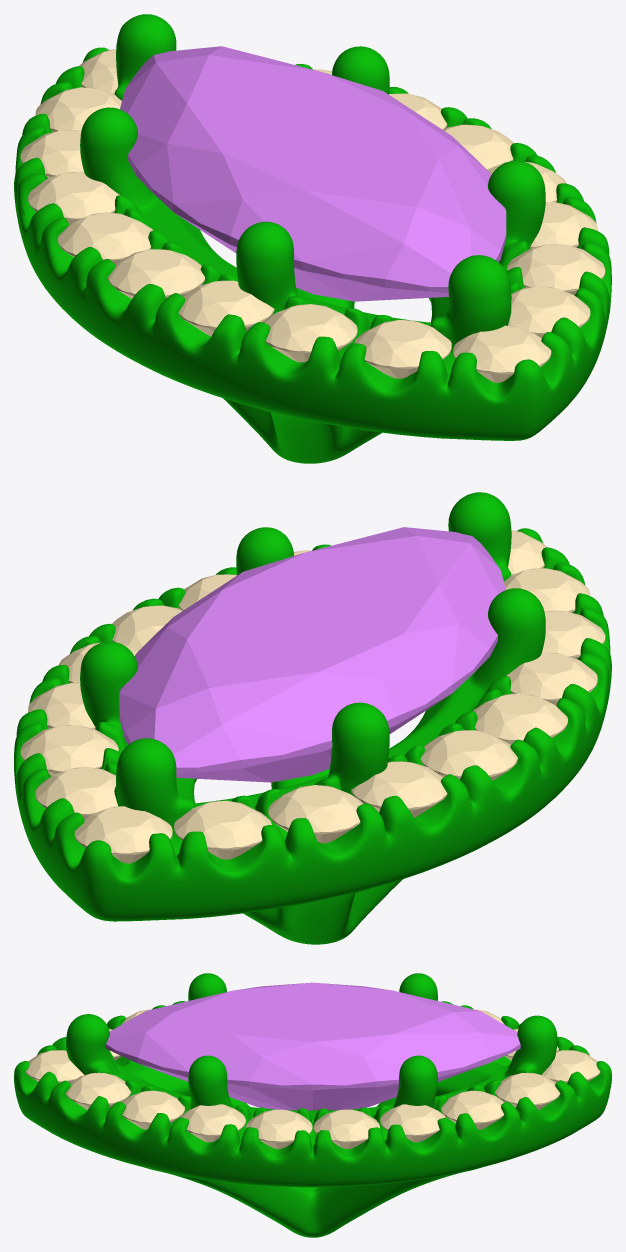
3 views of the same model, one above another, from view 1: azimuth 30°, elevation 25°; view 2: azimuth 150°, elevation 25°; view 3: azimuth 270°, elevation 25° (orthographic). The views are drawn at different scales.
Visible parts, largest first — view 1: Metal01, Diamond_Marquise, Diamond_Round.002, Diamond_Round.001, Diamond_Round.017, Diamond_Round.003, Diamond_Round.016, Diamond_Round, Diamond_Round.005, Diamond_Round.015, Diamond_Round.004, Diamond_Round.013 (+6 smaller); view 2: Metal01, Diamond_Marquise, Diamond_Round.013, Diamond_Round.014, Diamond_Round.016, Diamond_Round.012, Diamond_Round.017, Diamond_Round.015, Diamond_Round.010, Diamond_Round, Diamond_Round.011, Diamond_Round.002 (+6 smaller); view 3: Metal01, Diamond_Marquise, Diamond_Round.008, Diamond_Round.007, Diamond_Round.010, Diamond_Round.011, Diamond_Round.005, Diamond_Round.009, Diamond_Round.004, Diamond_Round.006, Diamond_Round.012, Diamond_Round.003.
Boxes of the visible parts, left/top/right/bottom form: Metal01: left=14, top=14, right=611, bottom=463; Diamond_Marquise: left=120, top=46, right=506, bottom=301; Diamond_Round.002: left=354, top=320, right=451, bottom=378; Diamond_Round.001: left=263, top=304, right=357, bottom=362; Diamond_Round.017: left=108, top=249, right=205, bottom=298; Diamond_Round.003: left=453, top=325, right=551, bottom=382; Diamond_Round.016: left=58, top=212, right=152, bottom=263; Diamond_Round: left=178, top=280, right=274, bottom=336; Diamond_Round.005: left=507, top=244, right=605, bottom=294; Diamond_Round.015: left=28, top=171, right=119, bottom=224; Diamond_Round.004: left=508, top=286, right=590, bottom=337; Diamond_Round.013: left=35, top=87, right=121, bottom=131; Metal01: left=14, top=492, right=611, bottom=944; Diamond_Marquise: left=119, top=527, right=505, bottom=782; Diamond_Round.013: left=174, top=800, right=271, bottom=859; Diamond_Round.014: left=268, top=785, right=362, bottom=843; Diamond_Round.016: left=420, top=730, right=517, bottom=780; Diamond_Round.012: left=74, top=806, right=172, bottom=863; Diamond_Round.017: left=473, top=693, right=567, bottom=744; Diamond_Round.015: left=351, top=761, right=447, bottom=817; Diamond_Round.010: left=20, top=725, right=118, bottom=775; Diamond_Round: left=506, top=652, right=597, bottom=705; Diamond_Round.011: left=35, top=767, right=118, bottom=818; Diamond_Round.002: left=504, top=568, right=590, bottom=612; Metal01: left=14, top=973, right=611, bottom=1237; Diamond_Marquise: left=105, top=982, right=520, bottom=1110; Diamond_Round.008: left=313, top=1109, right=379, bottom=1148; Diamond_Round.007: left=246, top=1109, right=312, bottom=1149; Diamond_Round.010: left=441, top=1090, right=504, bottom=1129; Diamond_Round.011: left=495, top=1072, right=560, bottom=1110; Diamond_Round.005: left=122, top=1090, right=184, bottom=1129; Diamond_Round.009: left=380, top=1104, right=445, bottom=1142; Diamond_Round.004: left=66, top=1072, right=131, bottom=1109; Diamond_Round.006: left=181, top=1104, right=245, bottom=1142; Diamond_Round.012: left=542, top=1050, right=600, bottom=1083; Diamond_Round.003: left=25, top=1050, right=83, bottom=1083.
Bounding box in the file's own units: 7.89 × 5.31 × 13.1.
